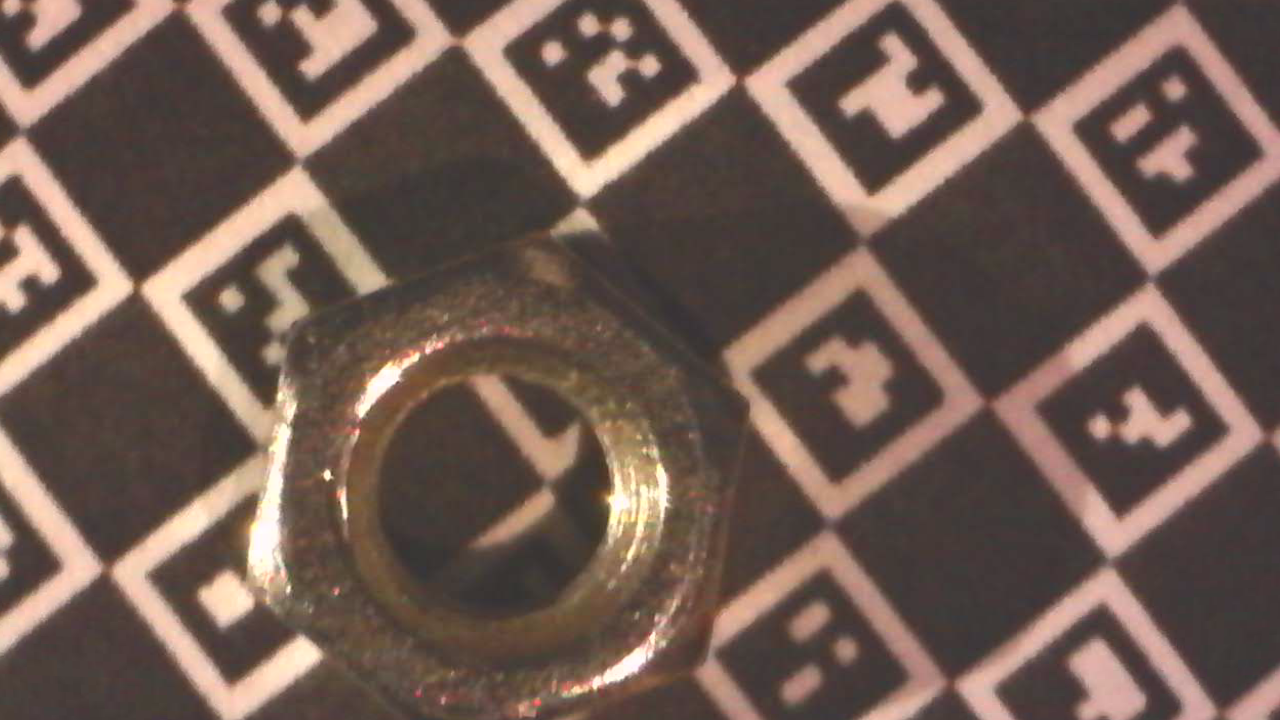Bolt: (238, 229, 760, 719)
